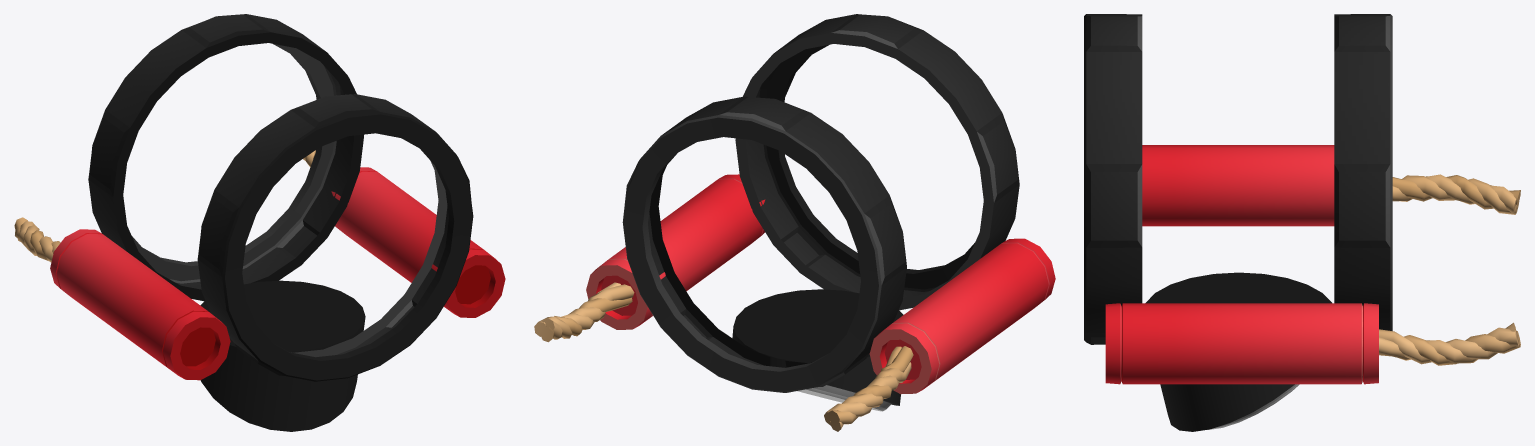
File: TNT.fbx
The picture shows the model from 3 angles, left to right: view 1: azimuth 30°, elevation 25°; view 2: azimuth 150°, elevation 25°; view 3: azimuth 270°, elevation 25°; orthographic projection. The views are drawn at different scales.
Visible parts, largest first — view 1: TNT, Bomb_2, Bomb_1; view 2: TNT, Bomb_2, Bomb_1; view 3: TNT, Bomb_1, Bomb_2.
Part boxes in pixels (x1,y1,x2,y2): TNT: (88, 14, 473, 431); Bomb_2: (14, 217, 230, 380); Bomb_1: (303, 150, 505, 317); TNT: (622, 14, 1019, 411); Bomb_2: (824, 238, 1055, 431); Bomb_1: (534, 174, 765, 342); TNT: (1084, 14, 1392, 431); Bomb_1: (1105, 303, 1520, 384); Bomb_2: (1142, 145, 1520, 226).
Size of the model in its own units: 1.41 by 1.37 by 1.39.
2 materials, 2 textured.
